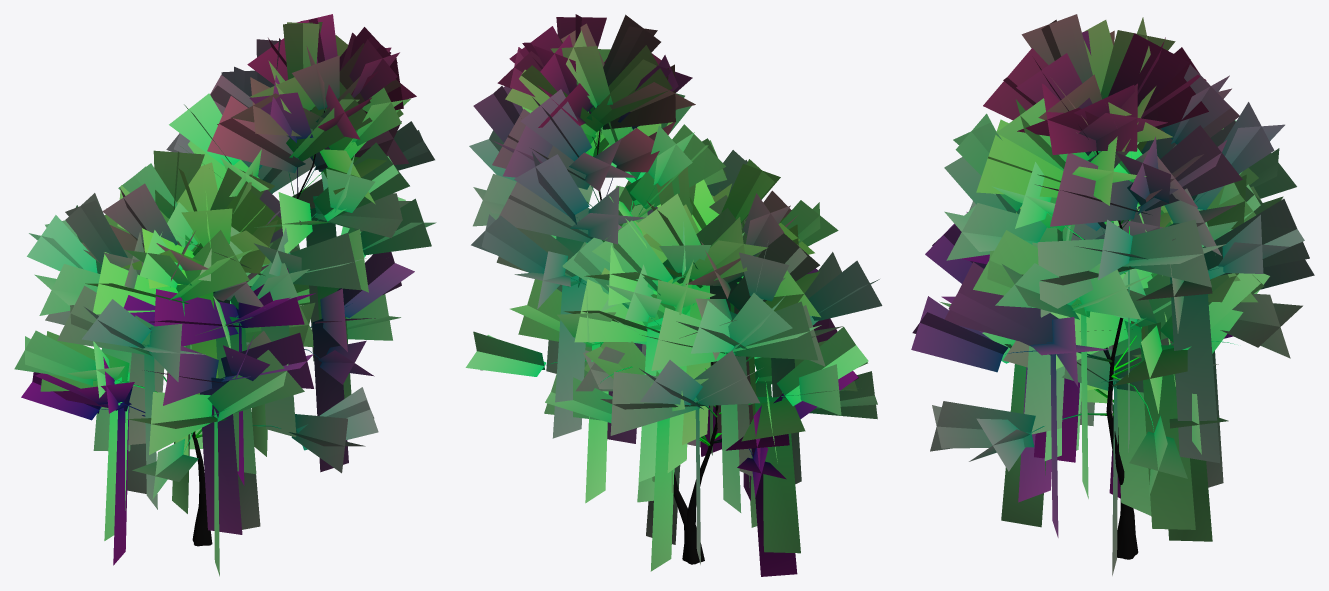
The model's file is Tree_10_8.fbx.
3 views of the same model, side by side, from view 1: azimuth 30°, elevation 25°; view 2: azimuth 150°, elevation 25°; view 3: azimuth 270°, elevation 25° (orthographic). The views are drawn at different scales.
Parts seen in each view (by area): view 1: _8; view 2: _8; view 3: _8.
Boxes of the visible parts, bbox=[...] form: _8: bbox=[14, 14, 436, 576]; _8: bbox=[465, 14, 882, 576]; _8: bbox=[911, 14, 1314, 575].
Size of the model in its own units: 1705 by 2041 by 1263.
